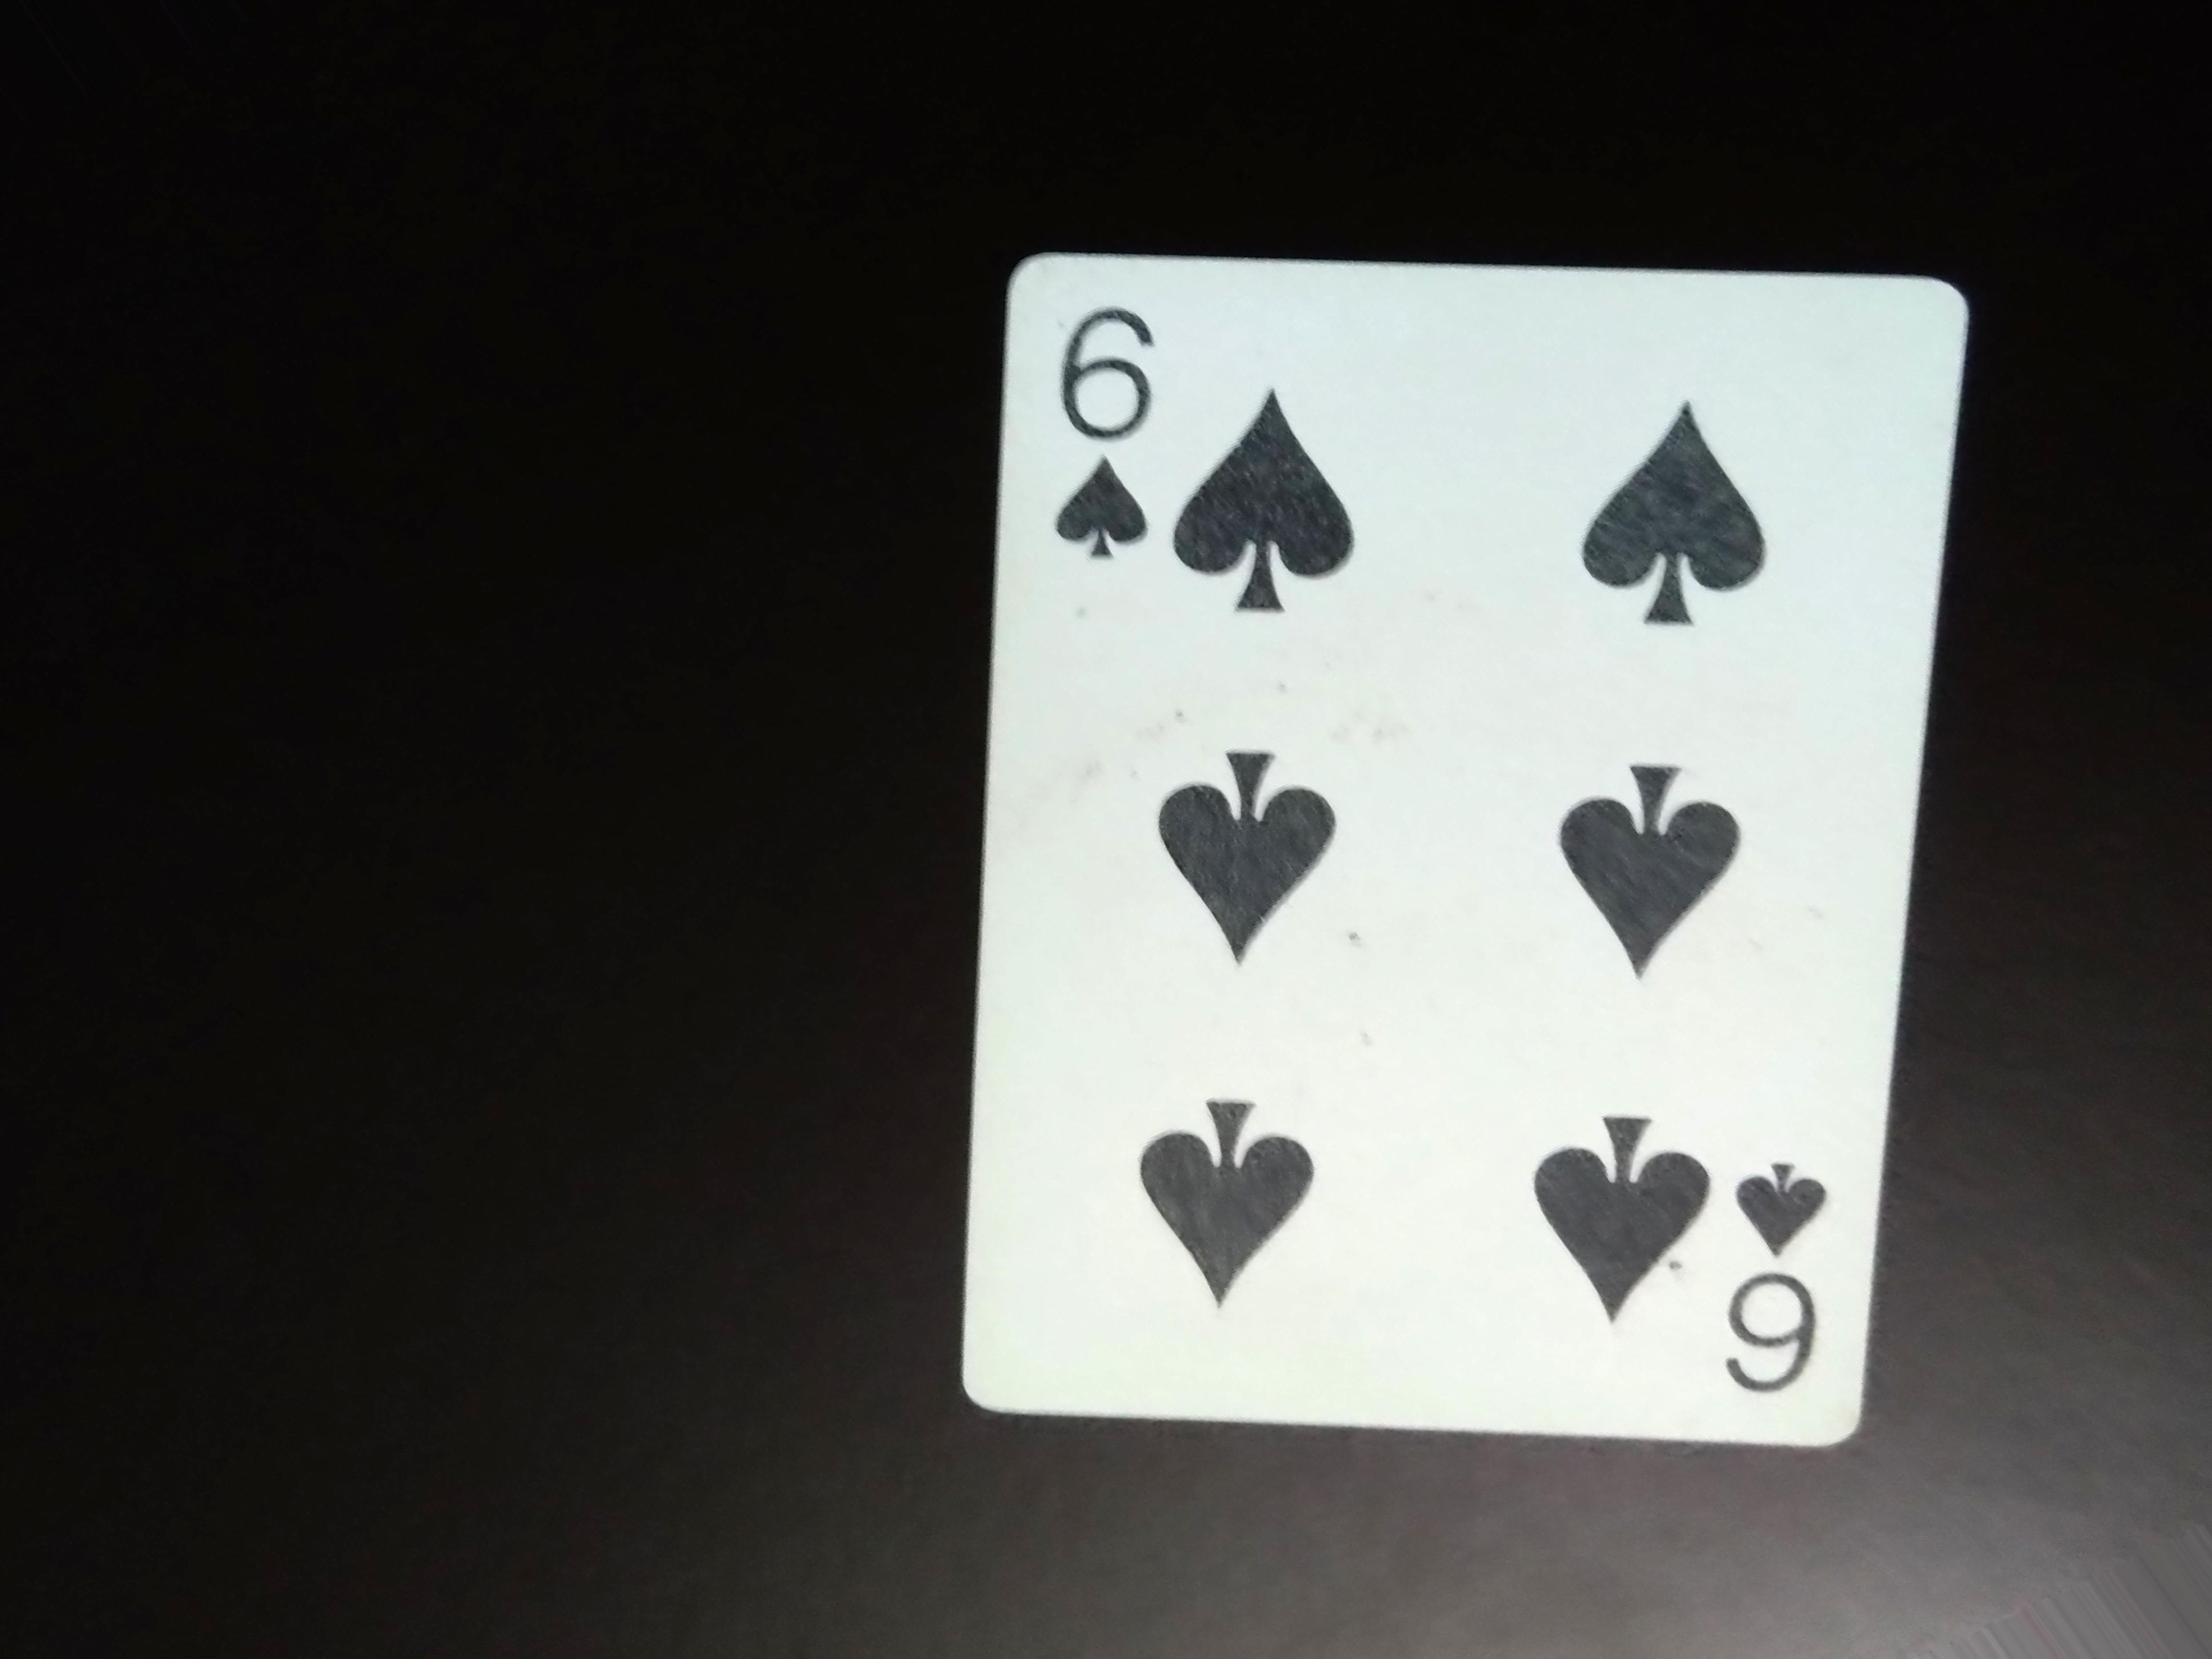6S: (1050, 296, 1177, 568)
